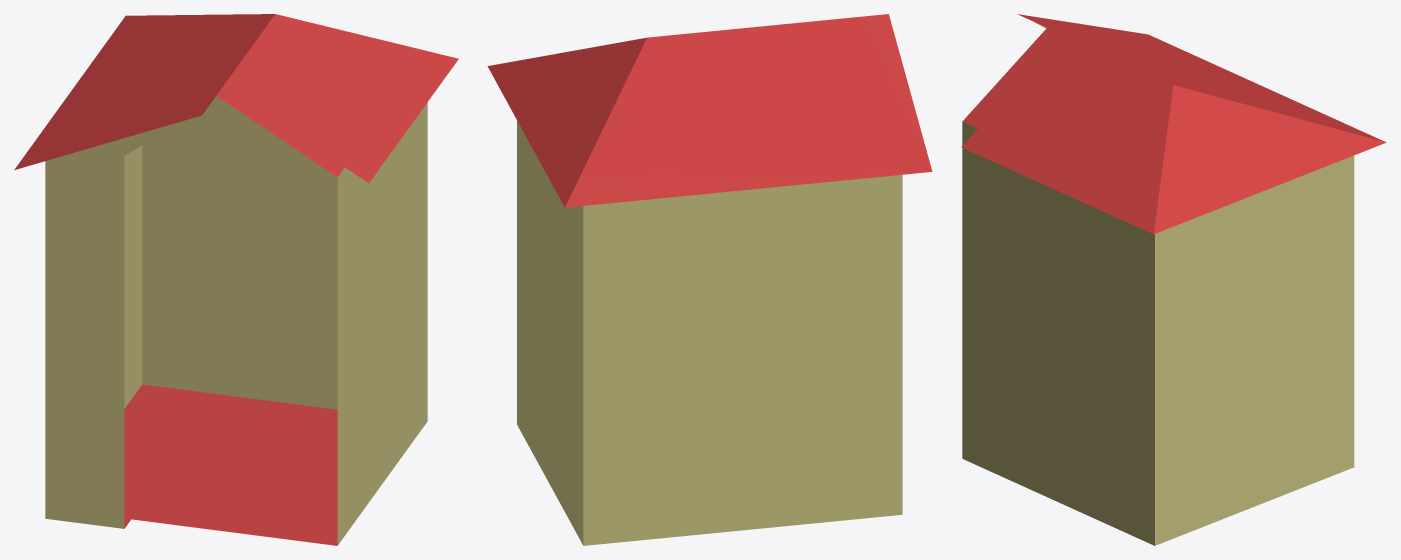
3 renders of one model, left to right at view 1: azimuth 30°, elevation 25°; view 2: azimuth 150°, elevation 25°; view 3: azimuth 270°, elevation 25°, orthographic. The views are drawn at different scales.
Bounding box in the file's own units: 10.32 × 9.28 × 9.56.
